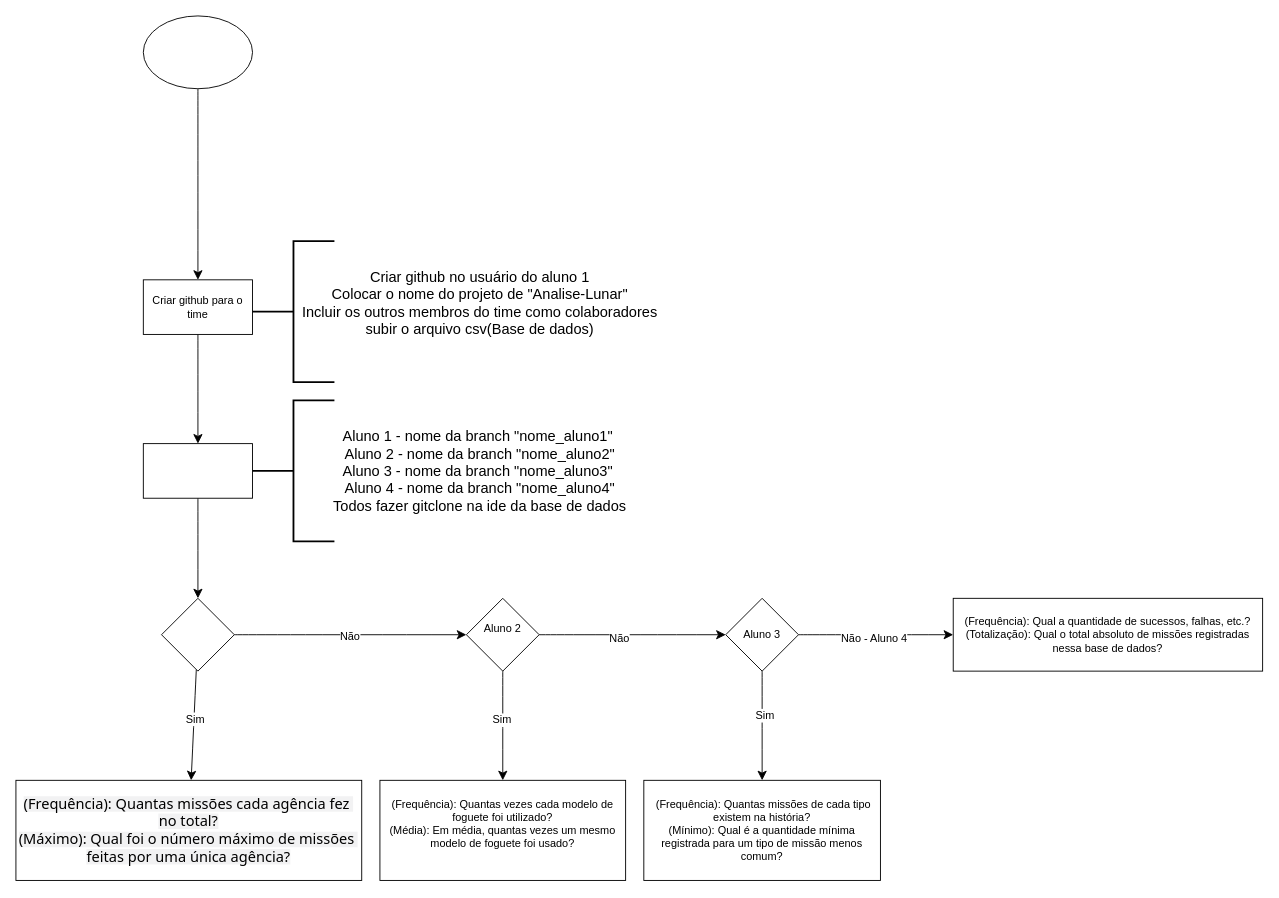
This 1279x898 diagram has some shape labels left out. The shapes that lost their labels are listed below. From the top down, each one's box as (x1, y1, x2, y2) in pixels, then its label:
(142, 15, 253, 89): inicio do projeto
(142, 443, 253, 498): Abrir IDE (Colab)
(161, 597, 234, 671): Aluno 1
